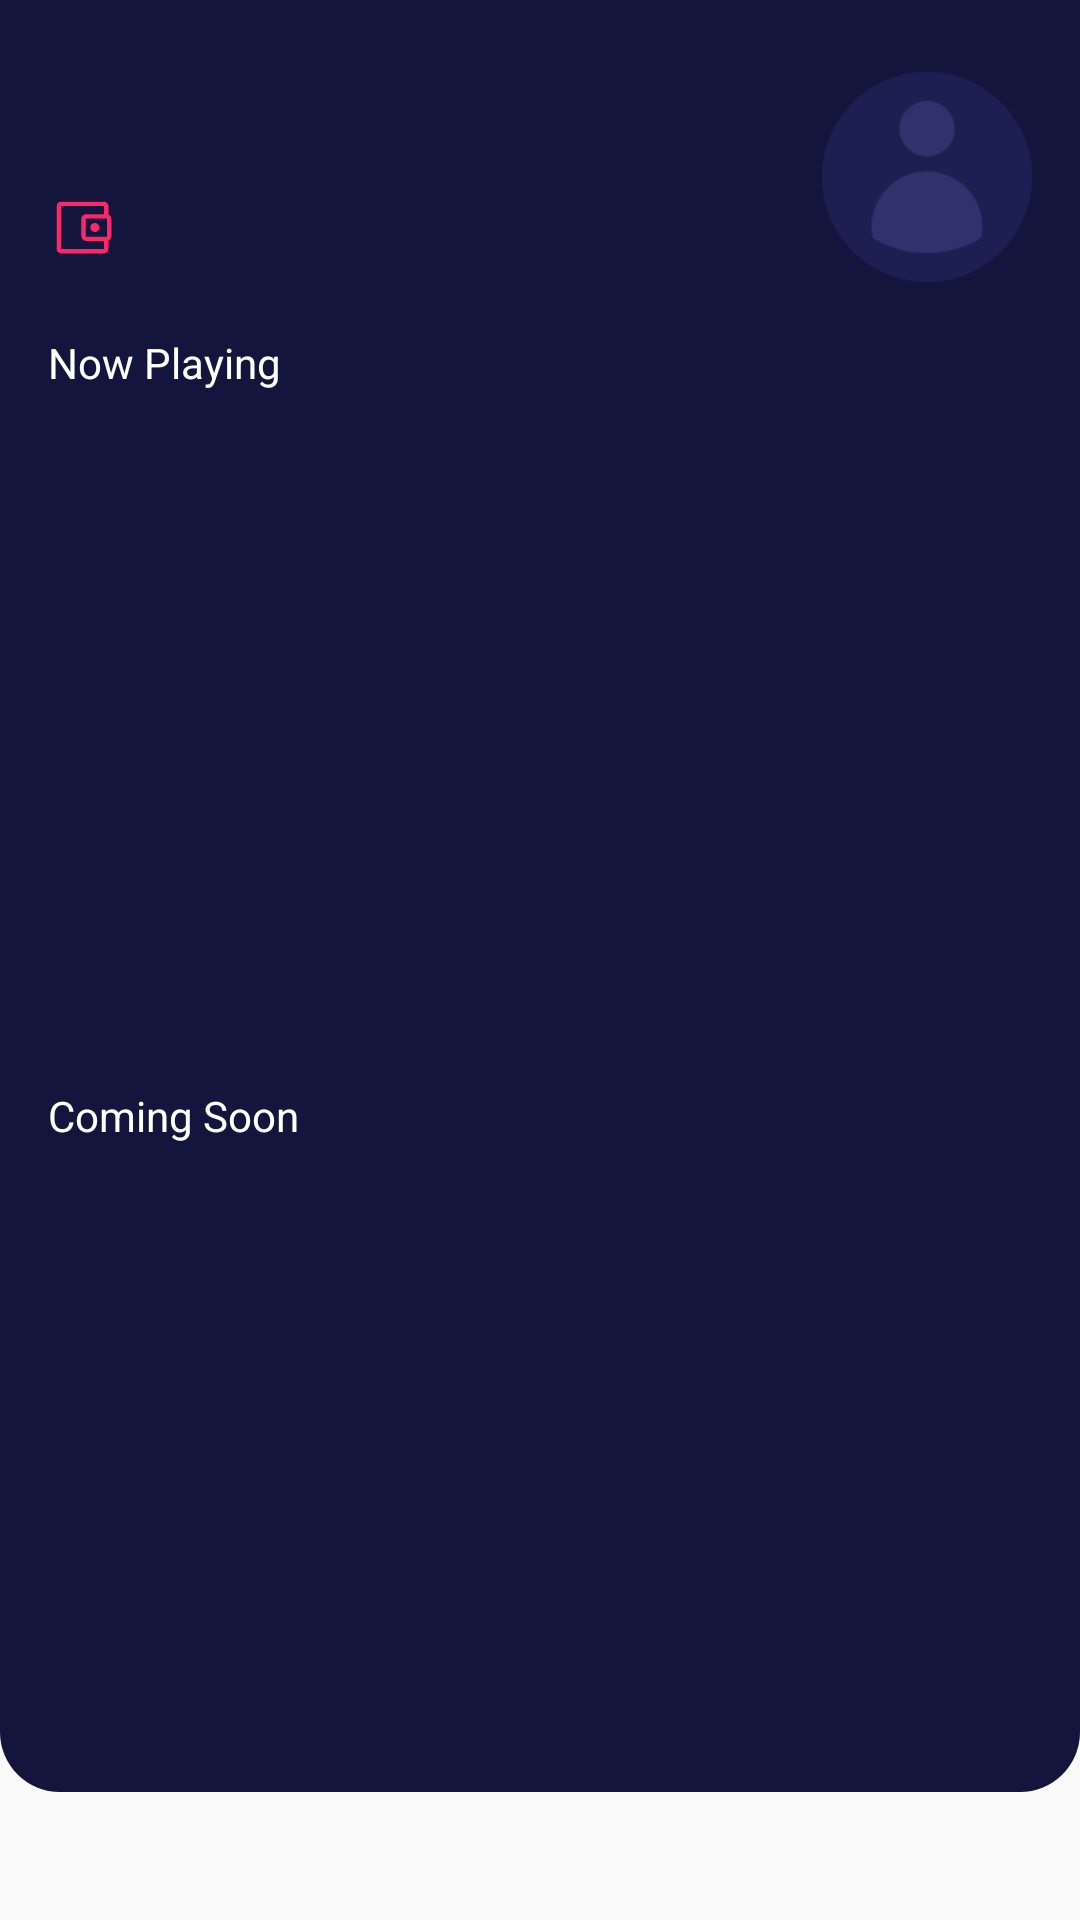

Point at icon controls on the screen. Image size 1080×1920, points as (x,y).
user pic: (927,177)
